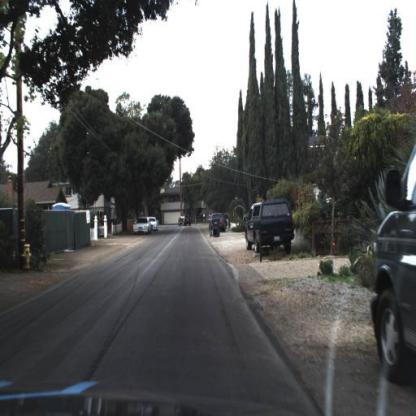biker: (203, 213, 209, 225)
car: (370, 129, 416, 387), (245, 197, 295, 256), (209, 213, 228, 231), (134, 218, 150, 236), (178, 214, 192, 228), (151, 215, 159, 233)
